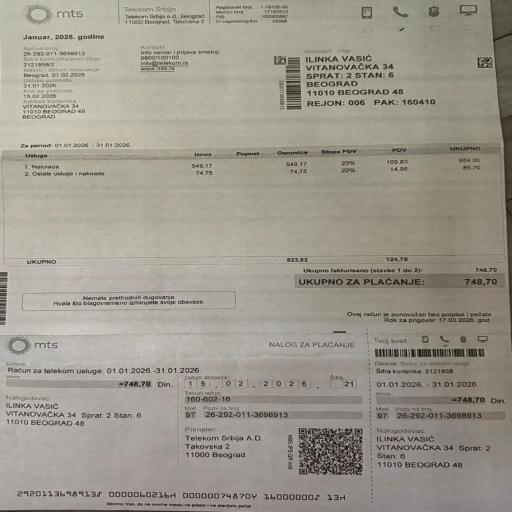mts: (22, 143, 492, 181)
mts_iznos: (297, 275, 501, 290)
mts_uplatnica: (372, 375, 508, 420)
